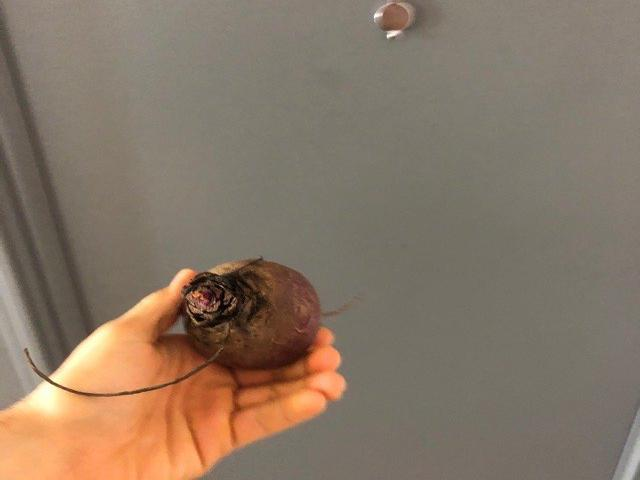beet: (26, 260, 359, 398)
